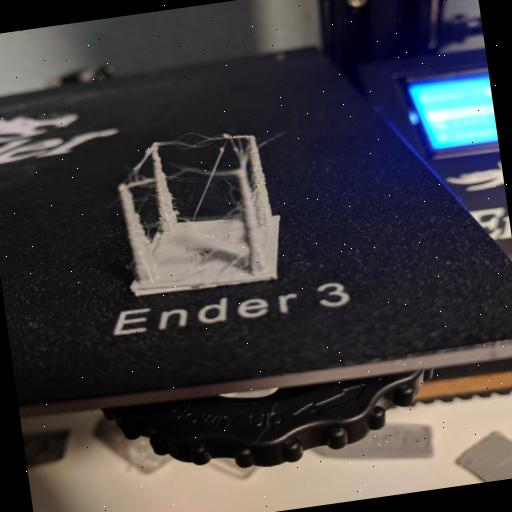stringing: (102, 134, 272, 258)
